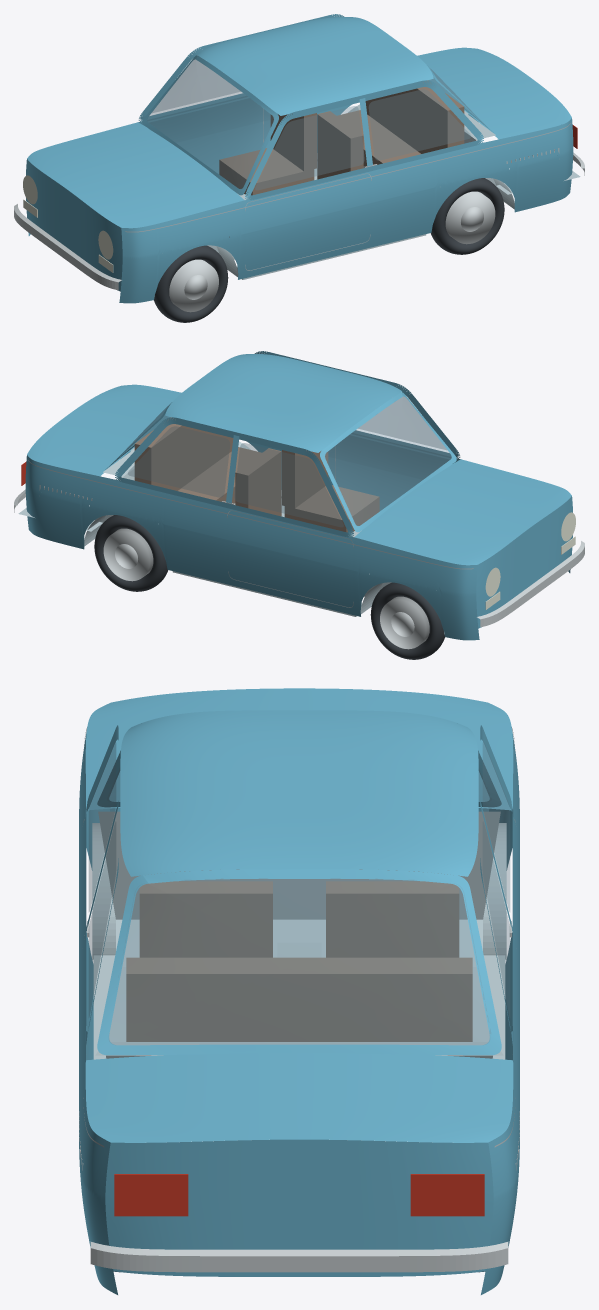
File: zaz-968m-reconstructed.glb
3 renders of one model, top to bottom at view 1: azimuth 30°, elevation 25°; view 2: azimuth 150°, elevation 25°; view 3: azimuth 270°, elevation 25°, orthographic. The views are drawn at different scales.
Visible parts, largest first — view 1: Правая боковина и арки, Крыша, Передний капот, Правая боковое стекло, Лобовое стекло, Крышка моторного отсека, Передние сиденья — приблизительные, Заднее сиденье — приблизительное, Левая боковина и арки, Передняя панель, Колёса — неподвижный визуальный ориентир, Диски — условная форма (+6 smaller); view 2: Левая боковина и арки, Крыша, Передний капот, Левая боковое стекло, Лобовое стекло, Крышка моторного отсека, Передние сиденья — приблизительные, Заднее сиденье — приблизительное, Правая боковина и арки, Передняя панель, Колёса — неподвижный визуальный ориентир, Диски — условная форма (+6 smaller); view 3: Заднее стекло, Крыша, Задняя панель, Крышка моторного отсека, Заднее сиденье — приблизительное, Передние сиденья — приблизительные, Передний капот, Заднее стекло рамка, Бамперы, ручки, молдинги, Передняя перегородка и наклонный пол, Правая боковина и арки, Левая боковина и арки (+12 smaller).
Boxes of the visible parts, x1,y1,x2,y2 form: Правая боковина и арки: (119, 118, 573, 303); Крыша: (197, 17, 433, 115); Передний капот: (27, 122, 244, 228); Правая боковое стекло: (255, 89, 470, 189); Лобовое стекло: (147, 59, 273, 188); Крышка моторного отсека: (417, 47, 571, 139); Передние сиденья — приблизительные: (219, 111, 363, 195); Заднее сиденье — приблизительное: (337, 80, 464, 166); Левая боковина и арки: (28, 96, 477, 235); Передняя панель: (26, 159, 122, 291); Колёса — неподвижный визуальный ориентир: (154, 178, 504, 322); Диски — условная форма: (169, 191, 495, 312); Левая боковина и арки: (25, 455, 479, 640); Крыша: (165, 354, 401, 452); Передний капот: (354, 459, 571, 565); Левая боковое стекло: (128, 426, 343, 526); Лобовое стекло: (325, 396, 451, 525); Крышка моторного отсека: (27, 384, 181, 476); Передние сиденья — приблизительные: (235, 448, 379, 532); Заднее сиденье — приблизительное: (134, 417, 261, 503); Правая боковина и арки: (121, 433, 570, 572); Передняя панель: (476, 496, 572, 628); Колёса — неподвижный визуальный ориентир: (94, 515, 444, 659); Диски — условная форма: (103, 528, 429, 649); Заднее стекло: (109, 878, 490, 1044); Крыша: (120, 710, 478, 876); Задняя панель: (105, 1139, 493, 1276); Крышка моторного отсека: (85, 1053, 513, 1142); Заднее сиденье — приблизительное: (126, 957, 472, 1041); Передние сиденья — приблизительные: (139, 881, 459, 957); Передний капот: (85, 688, 513, 810); Заднее стекло рамка: (97, 869, 501, 1055); Бамперы, ручки, молдинги: (79, 727, 519, 1272); Передняя перегородка и наклонный пол: (98, 811, 500, 966); Правая боковина и арки: (79, 730, 117, 1294); Левая боковина и арки: (481, 730, 519, 1294).
Size of the model in its own units: 3.77 by 1.4 by 1.49.
